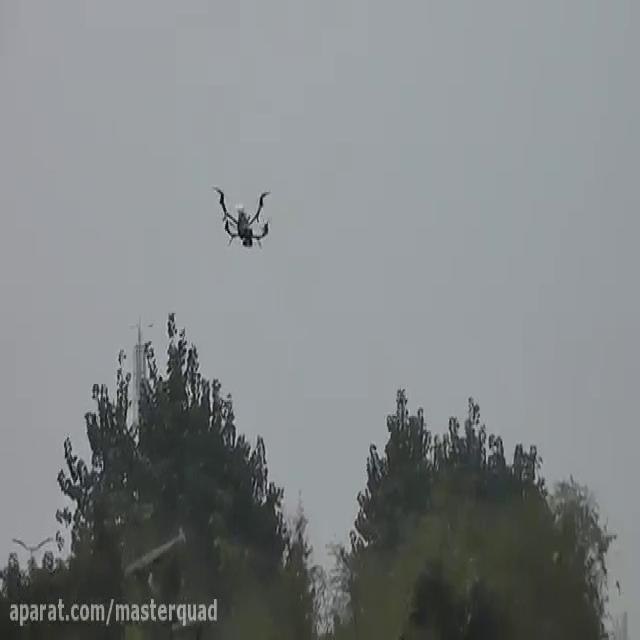drone: (211, 183, 273, 247)
